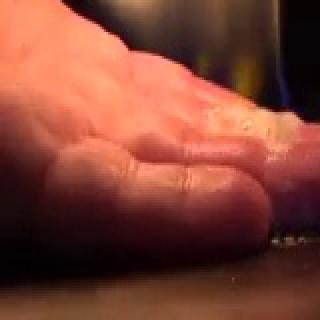fire: (126, 0, 288, 109)
